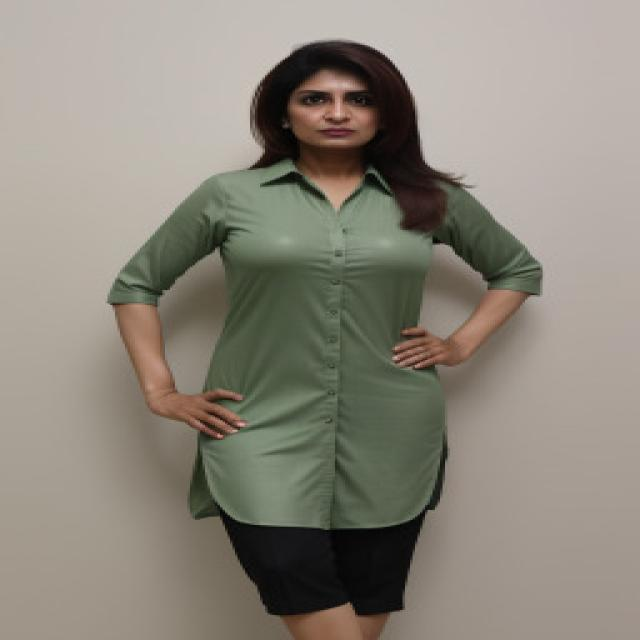Ai human 2: (105, 27, 550, 640)
